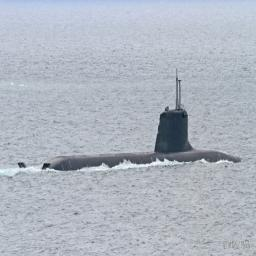submarine: (19, 61, 248, 173)
